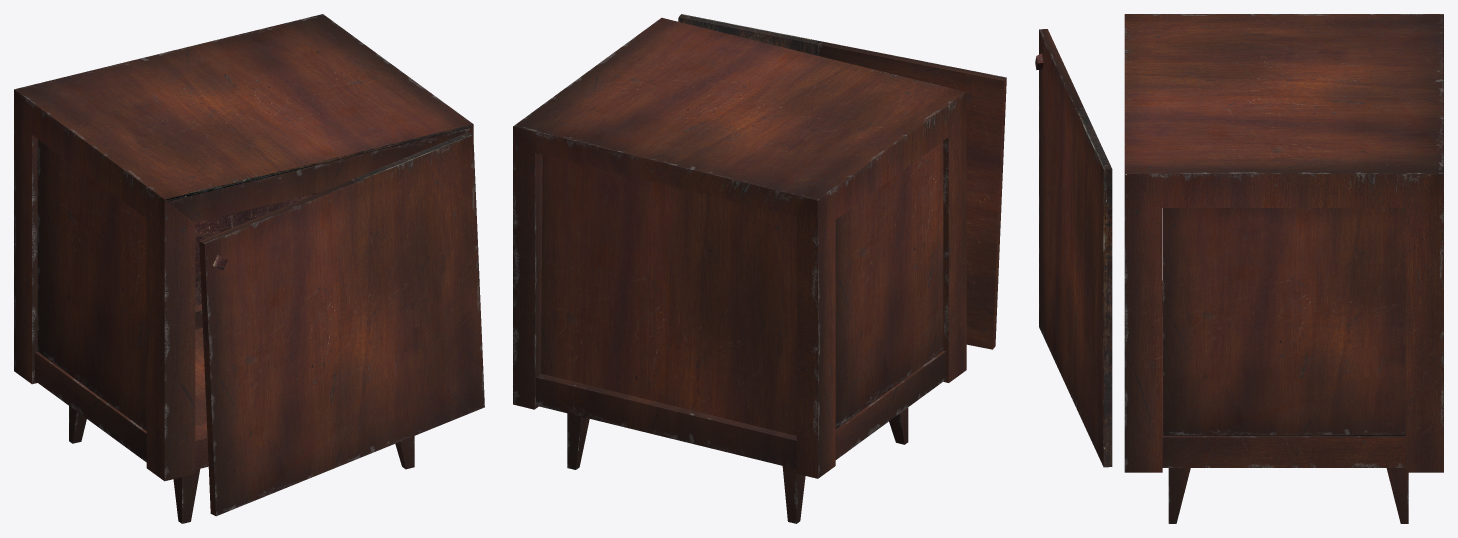
The model's file is Tumba02.FBX.
3 views of the same model, side by side, from view 1: azimuth 30°, elevation 25°; view 2: azimuth 150°, elevation 25°; view 3: azimuth 270°, elevation 25° (orthographic). The views are drawn at different scales.
Visible parts, largest first — view 1: tumba02; view 2: tumba02; view 3: tumba02.
Boxes of the visible parts, x1,y1,x2,y2 form: tumba02: (14, 14, 484, 523); tumba02: (513, 14, 1006, 523); tumba02: (1035, 14, 1443, 523).
Size of the model in its own units: 1.18 by 1.26 by 1.26.
